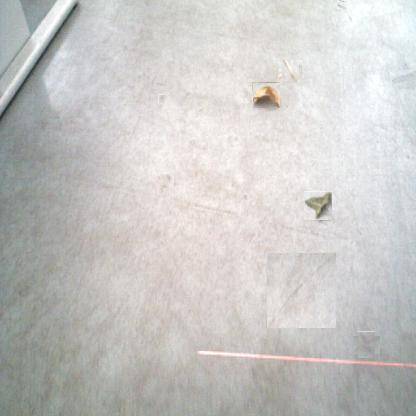dirty: (304, 192, 333, 220), (252, 82, 280, 108), (279, 61, 301, 81)
mark: (266, 252, 336, 328), (355, 334, 378, 356), (395, 66, 416, 89), (159, 175, 175, 192), (181, 91, 191, 99), (338, 1, 346, 10), (240, 192, 248, 200), (158, 94, 165, 103), (196, 107, 202, 114), (230, 180, 235, 188)
